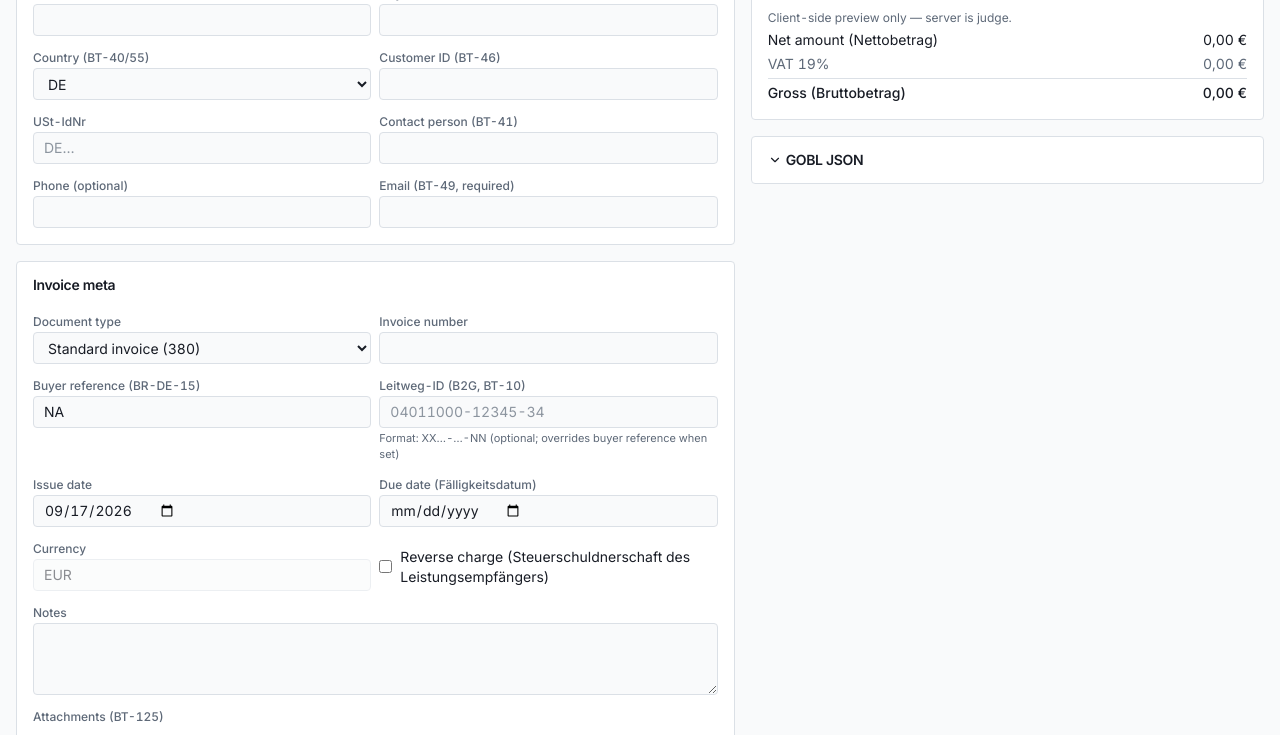
NewInvoicePage › shows 422 detail verbatim for missing preceding
(page scrolled)
Select "Credit note / Gutschrift (381)" in the dropdown labelled "Document type" at point(202, 348), box [33,332,371,364]
(page scrolled)
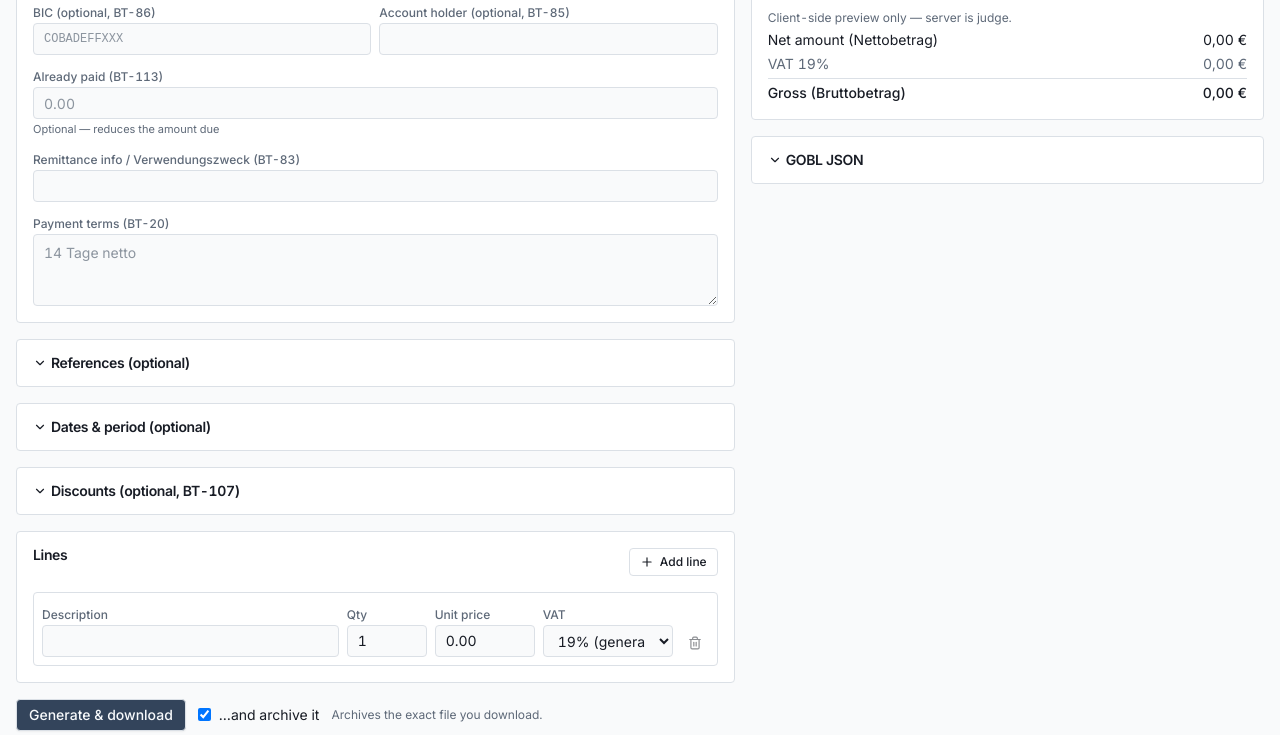
Click the button "Generate & download" at point(101, 714), box [16,698,186,730]
(page scrolled)
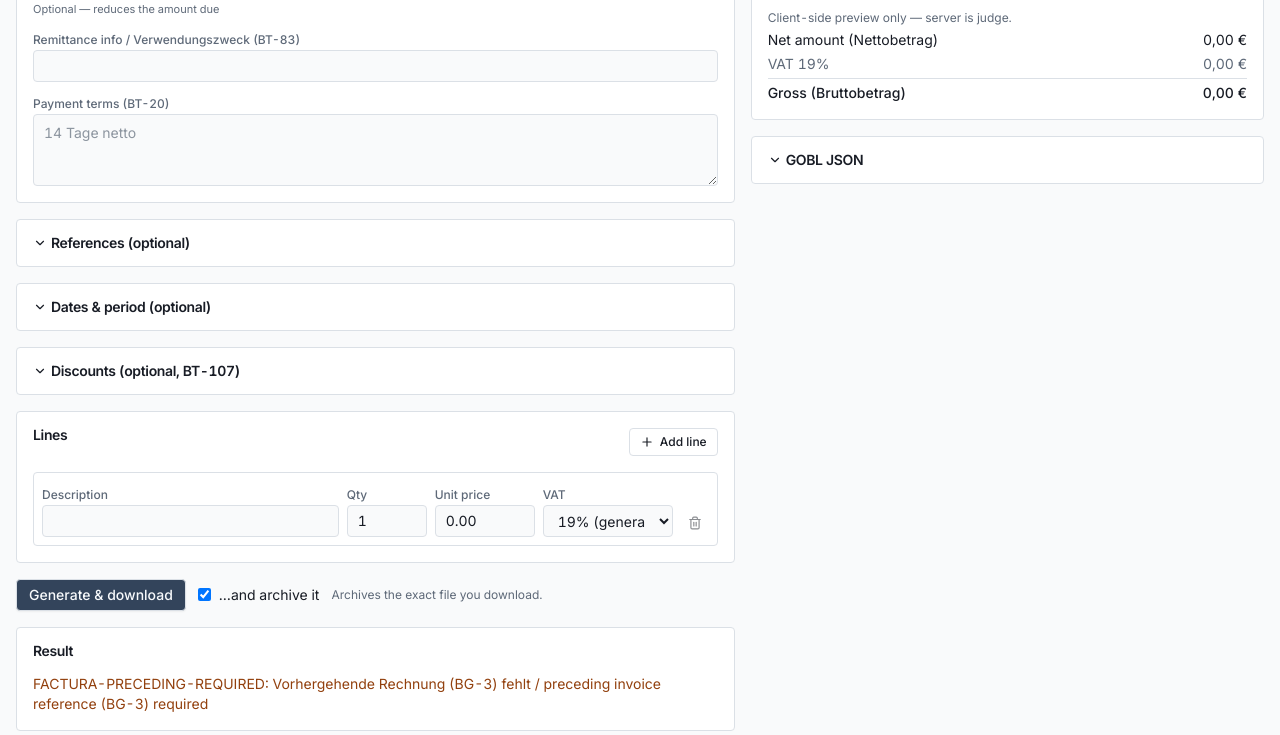
Check: the text "FACTURA-PRECEDING-REQUIRED: Vorhergehende Rechnung (BG-3) fehlt / preceding invoice reference (BG-3) required" is shown, box [33,674,665,712]
